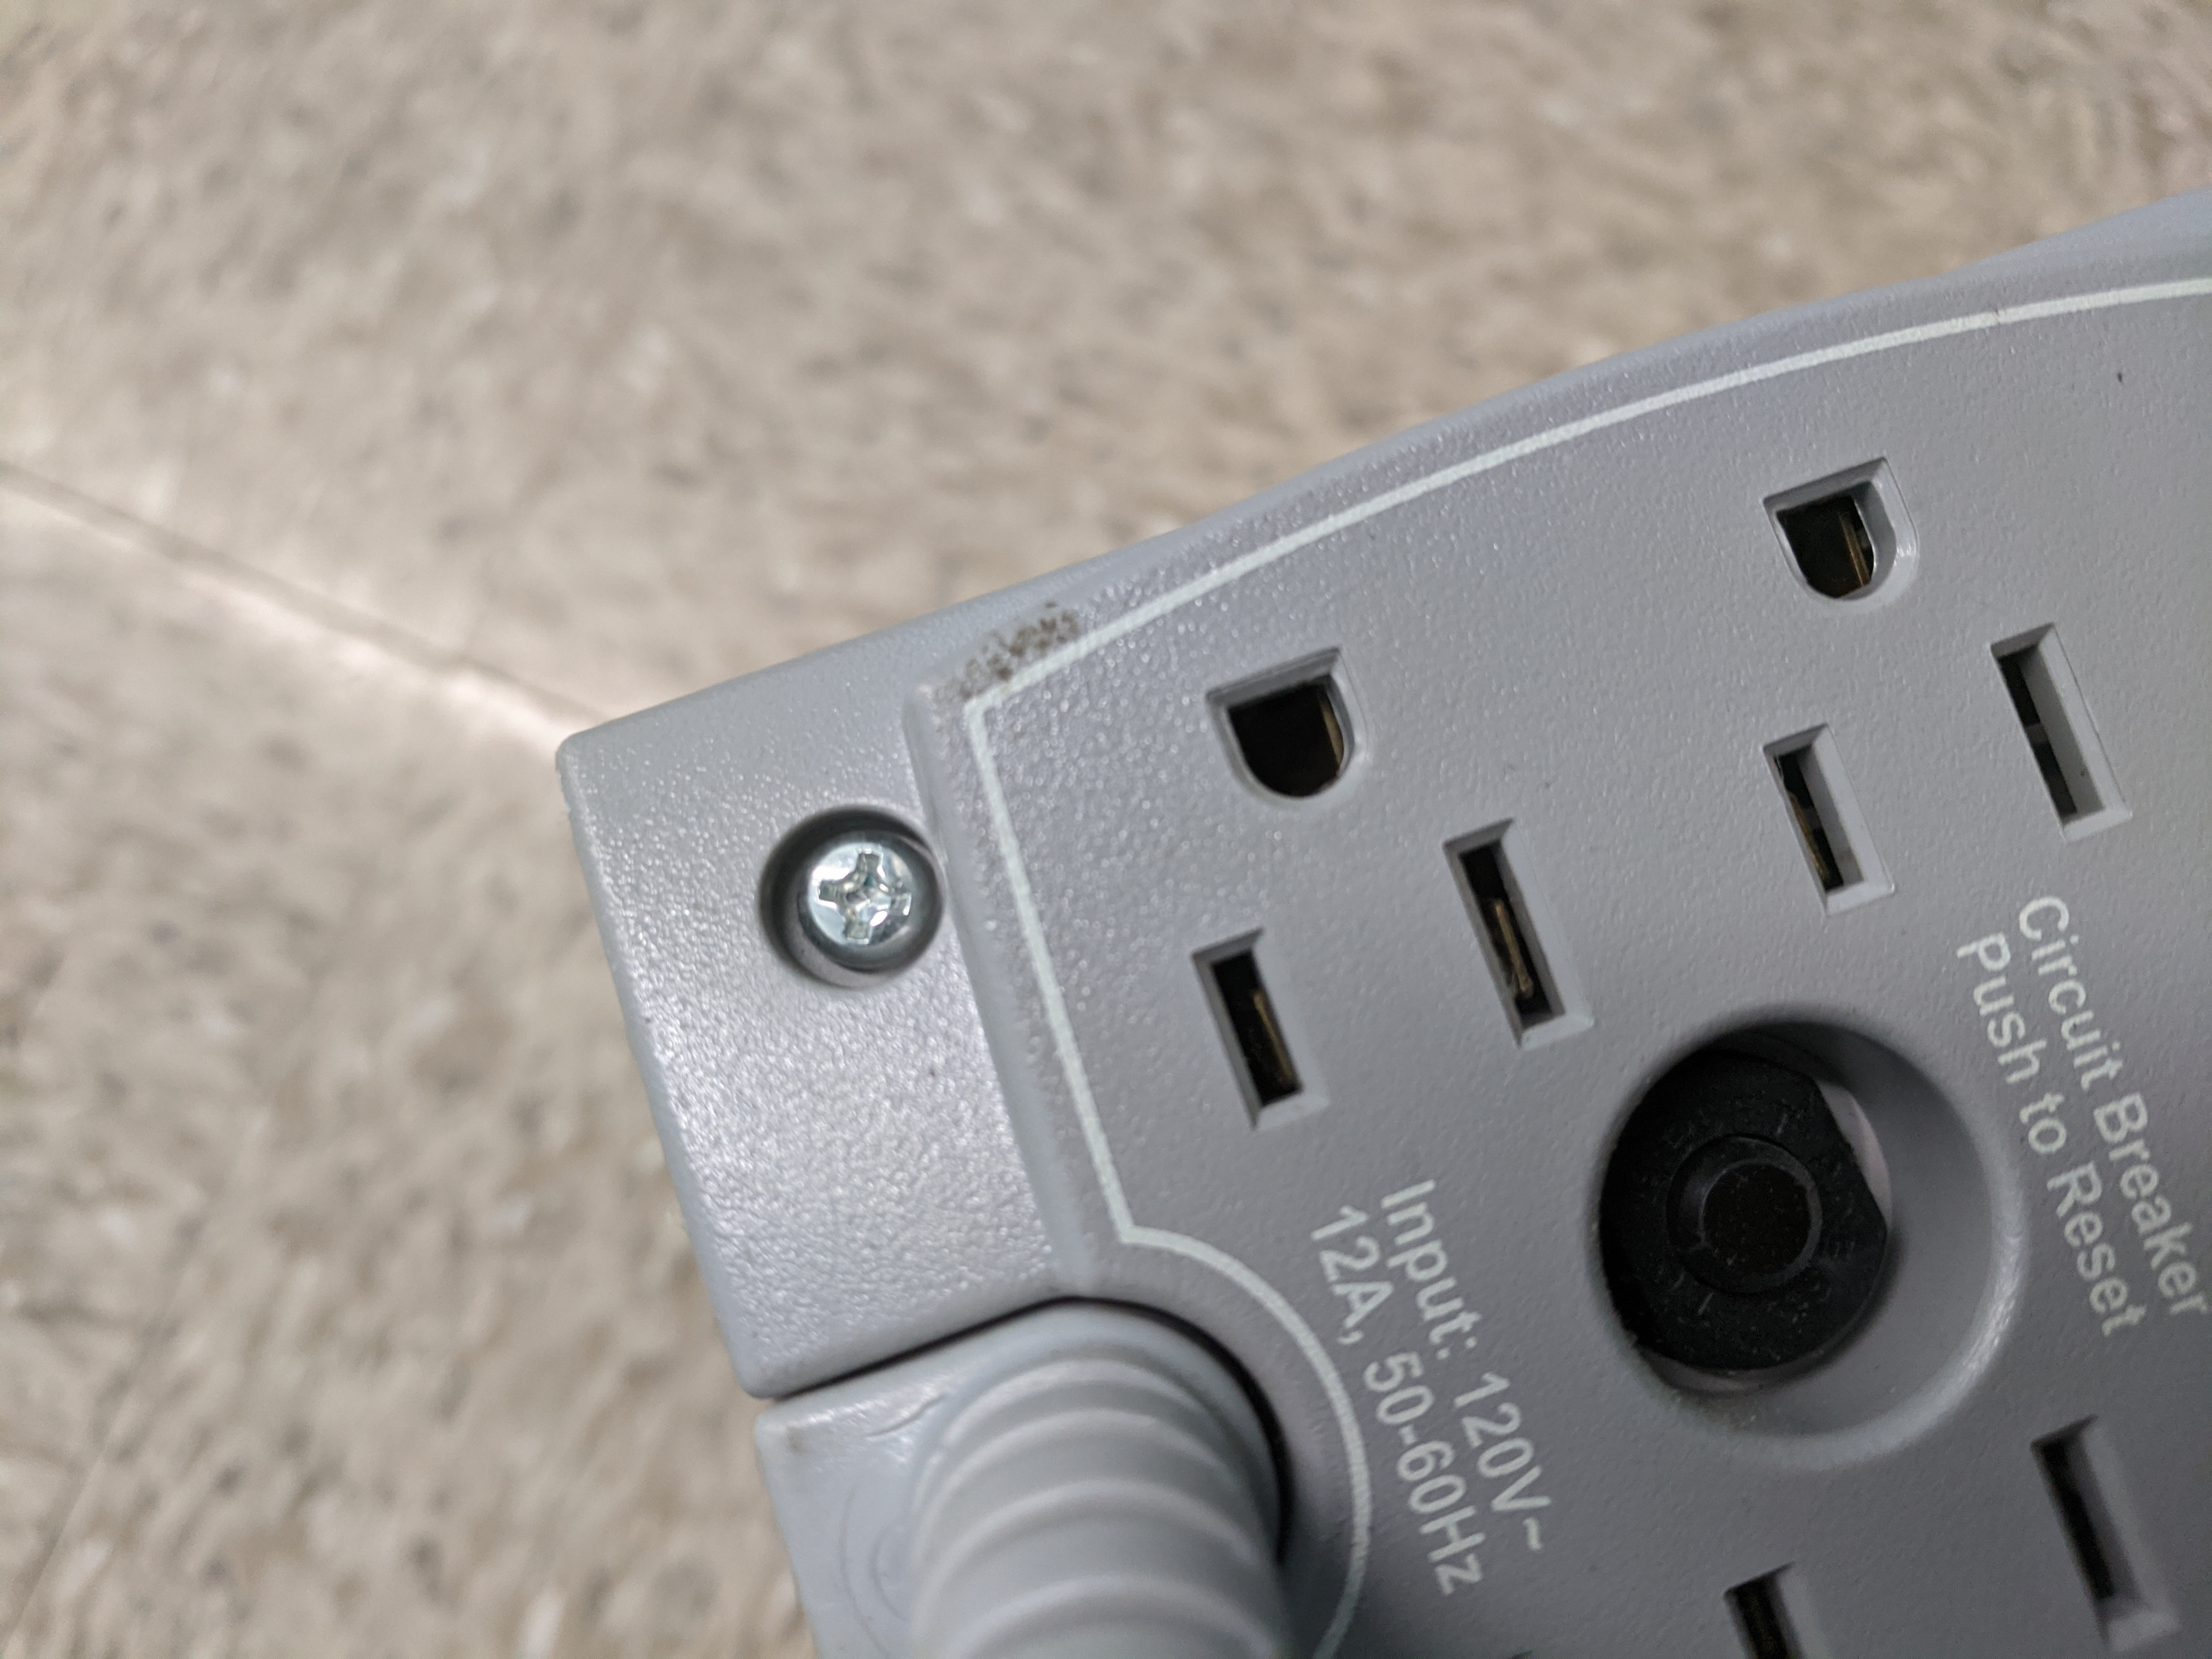cross_recessed_screw: (792, 817, 925, 962)
